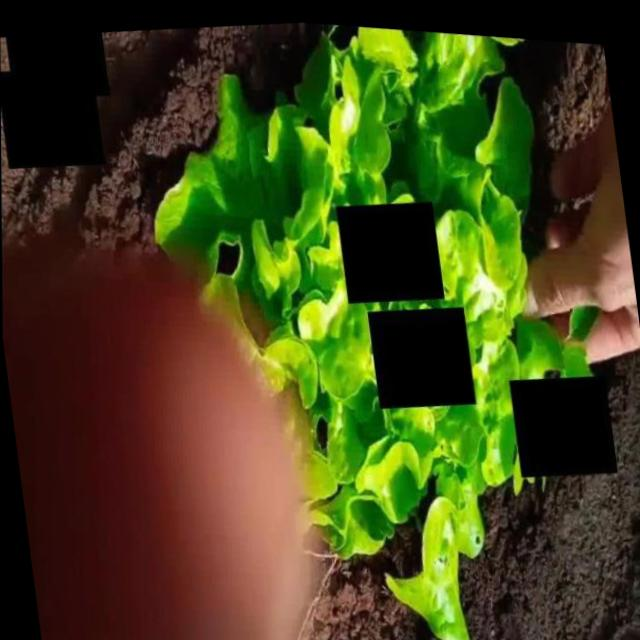Baby: (155, 48, 588, 640)
